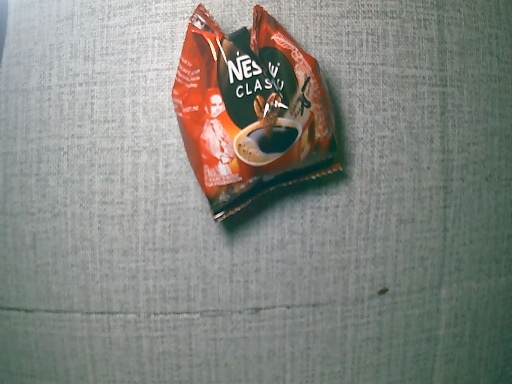plastic: (172, 3, 351, 225)
